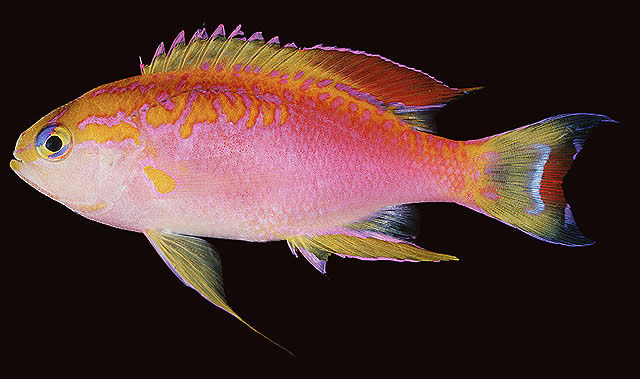fish: (10, 24, 618, 356)
